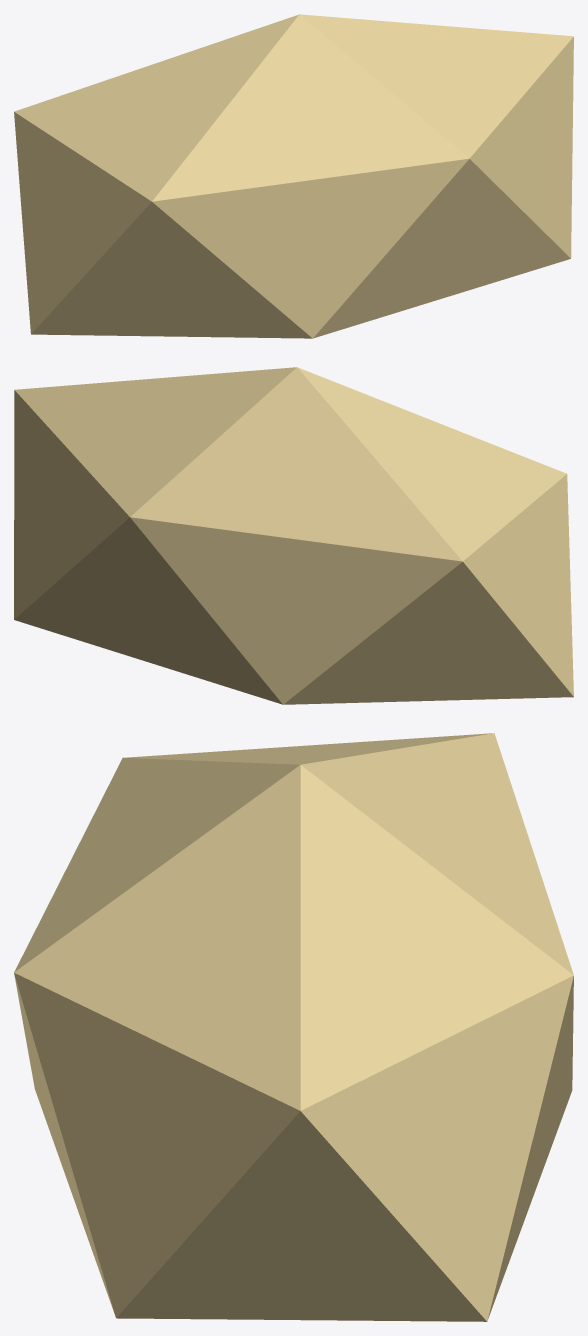
Rendered from item_031_emmer_seed_s.glb.
3 views of the same model, one above another, from view 1: azimuth 30°, elevation 25°; view 2: azimuth 150°, elevation 25°; view 3: azimuth 270°, elevation 25° (orthographic). The views are drawn at different scales.
Parts seen in each view (by area): view 1: item_031_emmer_seed_s; view 2: item_031_emmer_seed_s; view 3: item_031_emmer_seed_s.
Part boxes in pixels (<box>): item_031_emmer_seed_s: <box>14,14,573,338</box>; item_031_emmer_seed_s: <box>14,367,573,704</box>; item_031_emmer_seed_s: <box>14,733,573,1321</box>.
Size of the model in its own units: 0.3549 by 0.1979 by 0.204.
